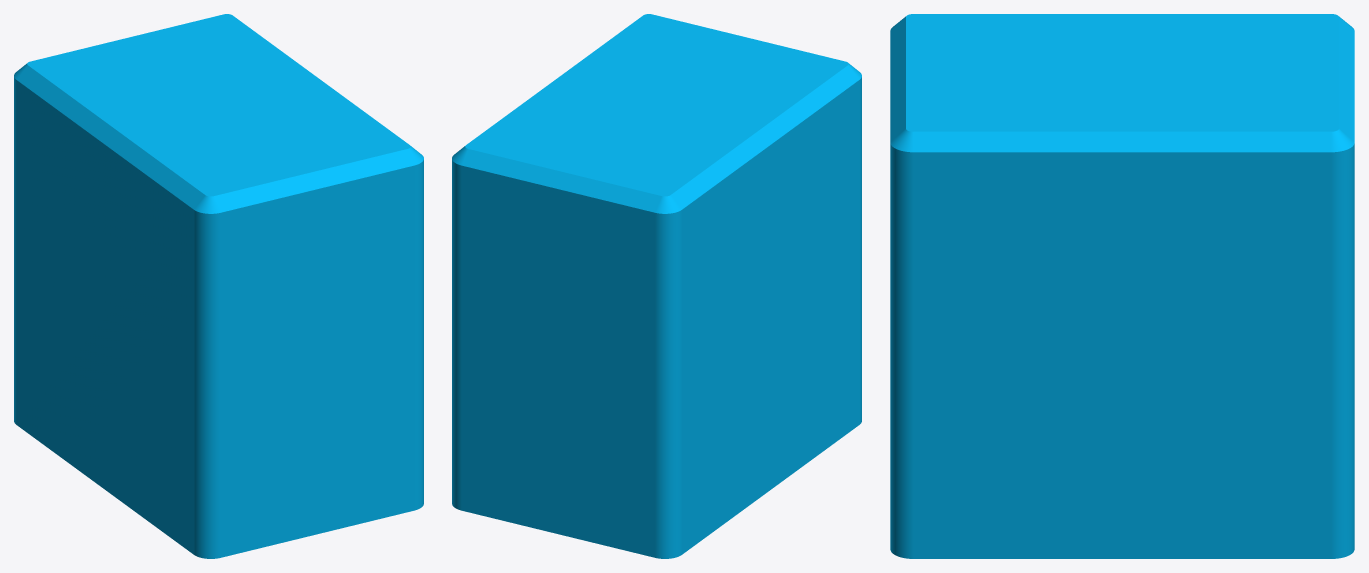
The model's file is kosullu_secim_islemi.gltf.
The picture shows the model from 3 angles, left to right: view 1: azimuth 30°, elevation 25°; view 2: azimuth 150°, elevation 25°; view 3: azimuth 270°, elevation 25°; orthographic projection. The views are drawn at different scales.
Visible parts, largest first — view 1: Gövde; view 2: Gövde; view 3: Gövde.
Part boxes in pixels (x1,y1,x2,y2): Gövde: [14, 14, 423, 558]; Gövde: [452, 14, 861, 558]; Gövde: [890, 14, 1354, 558].
Size of the model in its own units: 0.02 by 0.03 by 0.03.
